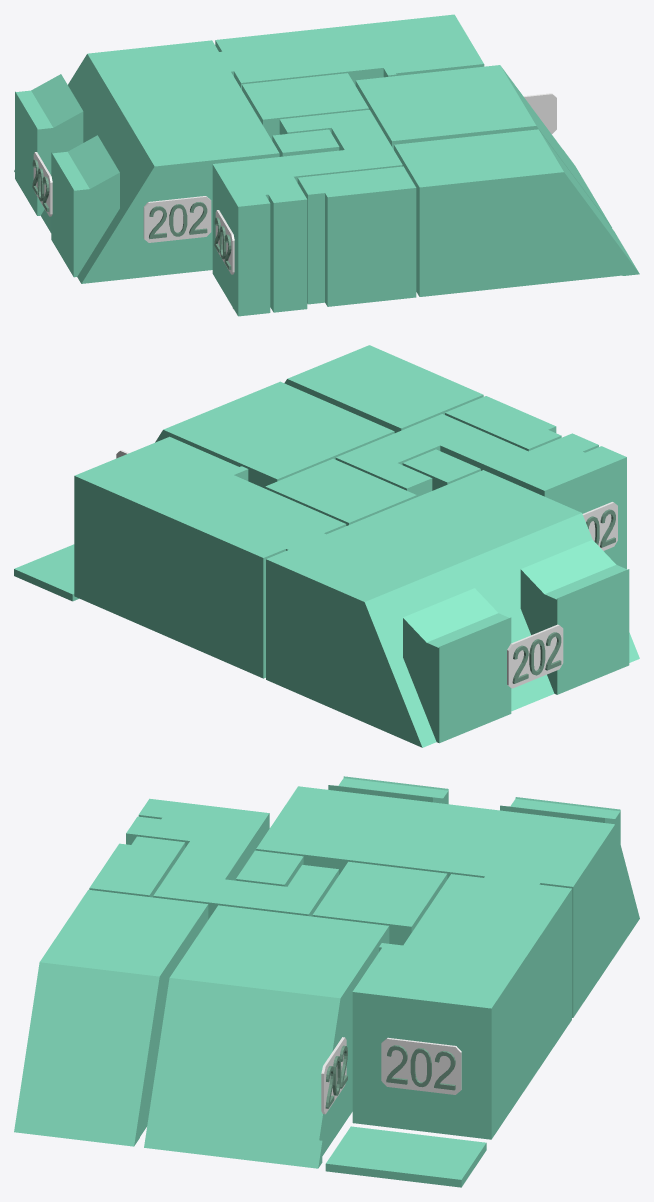
The picture shows the model from 3 angles, top to bottom: view 1: azimuth 30°, elevation 25°; view 2: azimuth 150°, elevation 25°; view 3: azimuth 270°, elevation 25°; orthographic projection. The views are drawn at different scales.
Parts seen in each view (by area): view 1: g_6, g_2, g_4, g_0, g_5, g_1, g_3, g_16, g_7, g_24, g_20, g_28; view 2: g_6, g_5, g_4, g_1, g_2, g_3, g_0, g_8, g_20, g_7, g_28; view 3: g_1, g_5, g_6, g_2, g_4, g_8, g_3, g_0, g_12, g_7, g_24.
Boxes of the visible parts, box(x1,y1,x2,y2) form: g_6: box(14, 40, 279, 283); g_2: box(394, 129, 639, 296); g_4: box(212, 109, 402, 316); g_0: box(297, 166, 416, 306); g_5: box(215, 14, 484, 89); g_1: box(355, 65, 611, 227); g_3: box(242, 73, 368, 140); g_16: box(143, 196, 211, 242); g_7: box(272, 129, 339, 156); g_24: box(523, 93, 556, 133); g_20: box(33, 152, 52, 216); g_28: box(215, 210, 234, 274); g_6: box(266, 470, 639, 747); g_5: box(74, 436, 346, 678); g_4: box(335, 414, 626, 568); g_1: box(155, 381, 394, 488); g_2: box(284, 345, 483, 432); g_3: box(265, 458, 416, 525); g_0: box(445, 396, 561, 451); g_8: box(14, 544, 79, 601); g_20: box(507, 624, 563, 688); g_7: box(402, 449, 480, 490); g_28: box(582, 502, 617, 550); g_1: box(144, 905, 389, 1168); g_5: box(352, 874, 571, 1139); g_6: box(256, 776, 639, 1017); g_2: box(14, 889, 208, 1146); g_4: box(126, 798, 338, 919); g_8: box(325, 1126, 486, 1187); g_3: box(312, 861, 447, 945); g_0: box(89, 836, 185, 897); g_12: box(381, 1037, 461, 1094); g_7: box(236, 850, 303, 886); g_24: box(321, 1037, 346, 1114).
Size of the model in its own units: 12.42 by 2.71 by 11.01.
